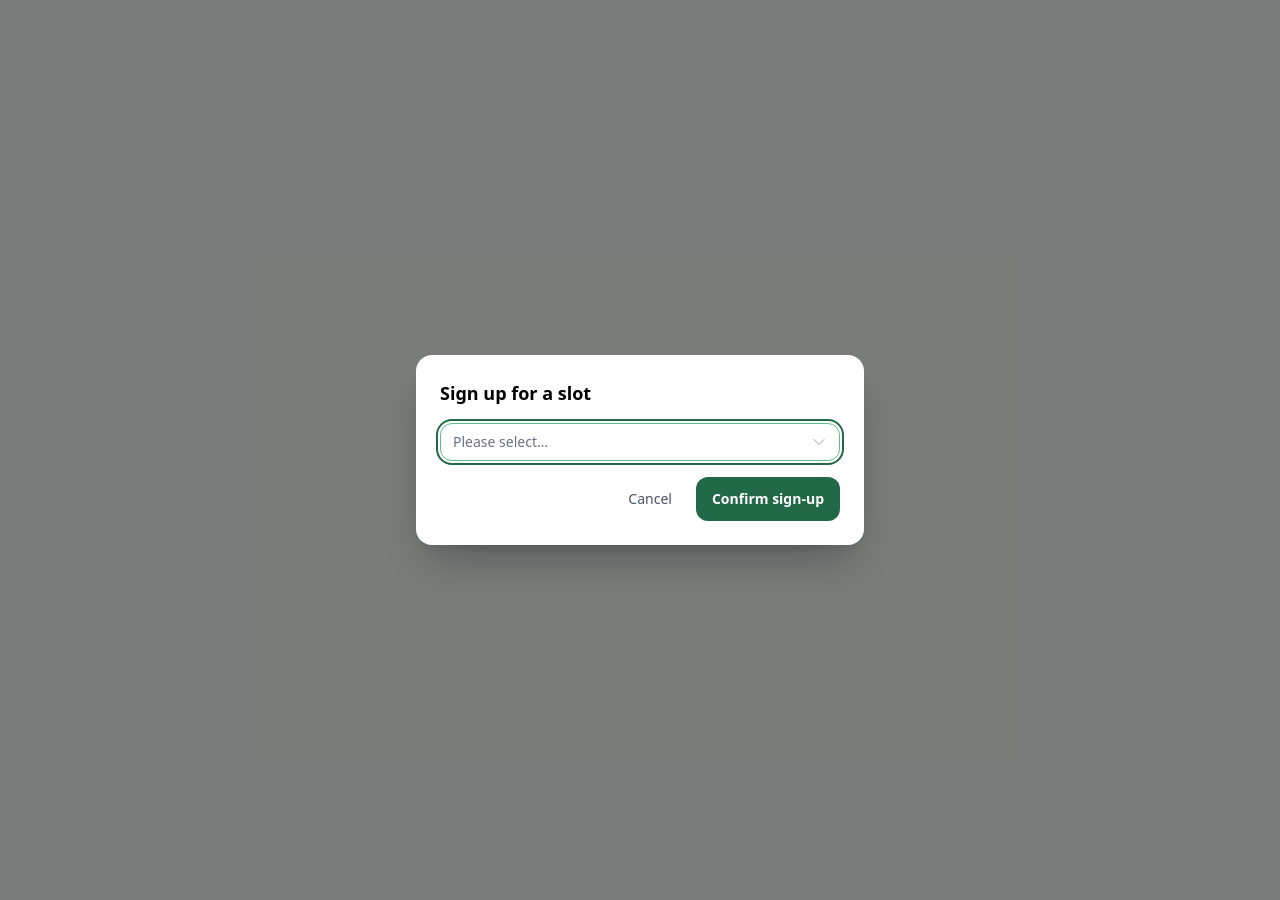
Test: SignUpModal slot picker › states how full each slot already is
The width and height of the screenshot is (1280, 900).
Step 1. Click the dropdown → click(501, 442), box [440,423,840,461]
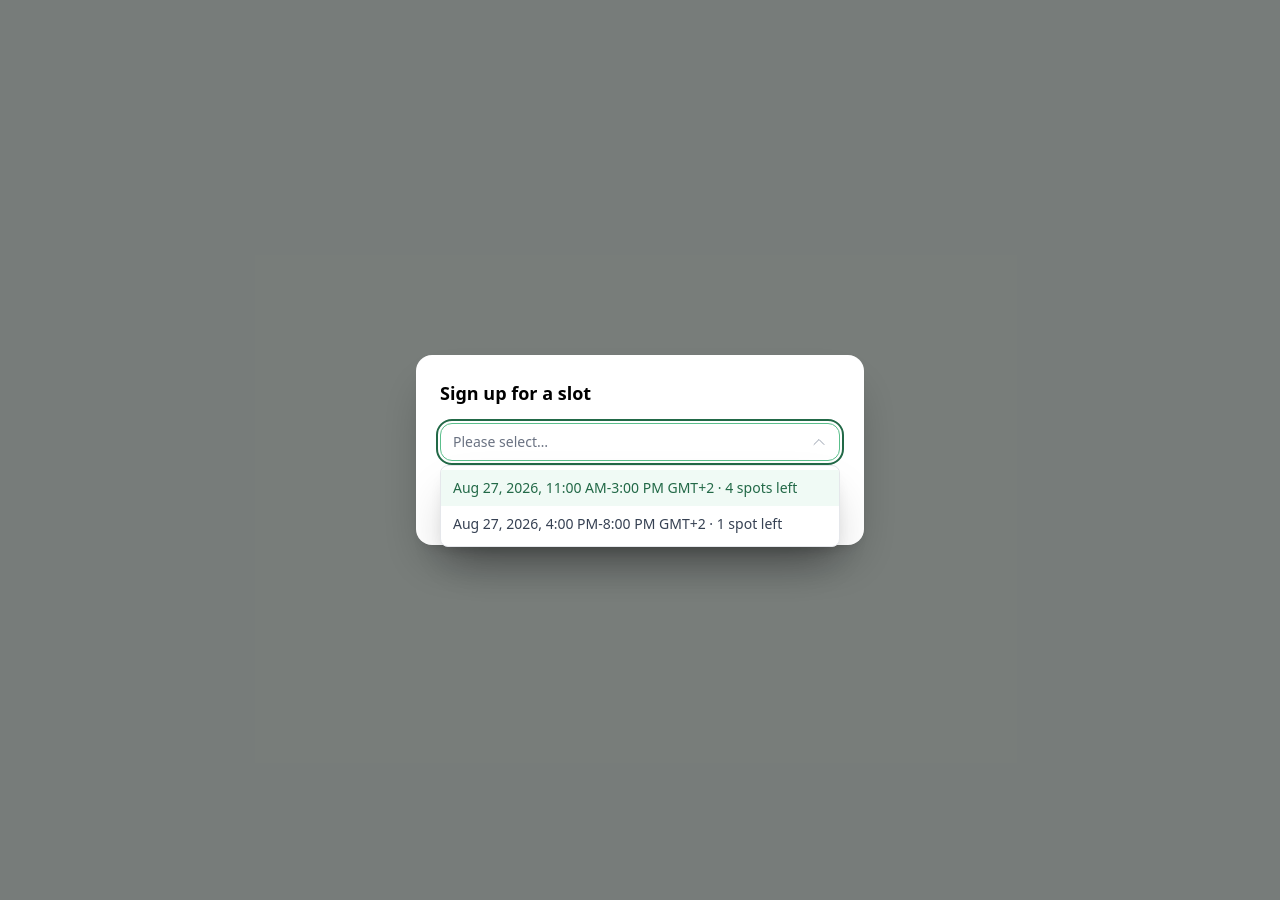
Check: the number of options is 2, box [441,470,839,506]; [453,514,782,533]
Check: the 1st option shows "4 spots left", box [441,470,839,506]
Check: the 2nd option shows "1 spot left", box [453,514,782,533]
